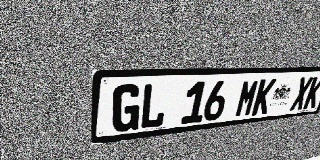1: (181, 81, 209, 124)
6: (202, 80, 230, 122)
G: (111, 84, 142, 133)
K: (251, 78, 277, 116), (302, 76, 320, 109)
L: (139, 83, 169, 130)
M: (234, 79, 260, 118)
X: (289, 77, 313, 111)
